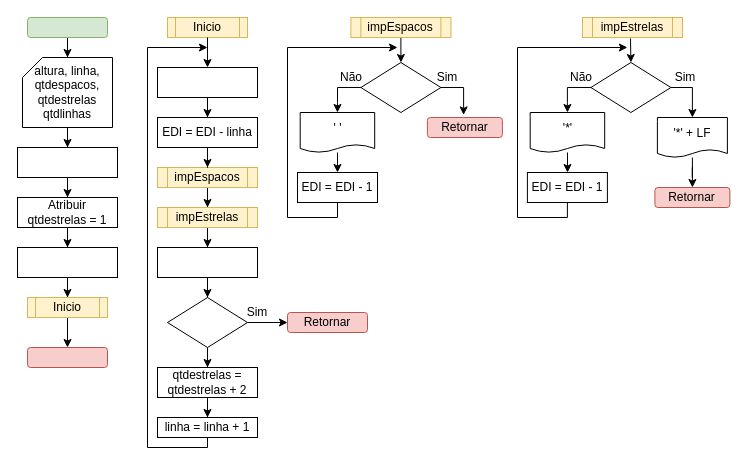
The diagram is 748 pixels wide and 473 high, and some of its shapes have lost their labels. Here are the shapes that lost their labels. From the top down, the centre of each, then its label:
the point at 67,27: Início
the point at 207,82: EDI = altura
the point at 400,87: EDI < 1
the point at 630,87: EDI = 1
the point at 67,162: Atribuir linha = 1
the point at 67,262: Atribuir qtdlinhas = altura
the point at 207,262: qtdlinhas = qtdlinhas - 1
the point at 207,322: qtdlinhas = 0
the point at 67,357: final
